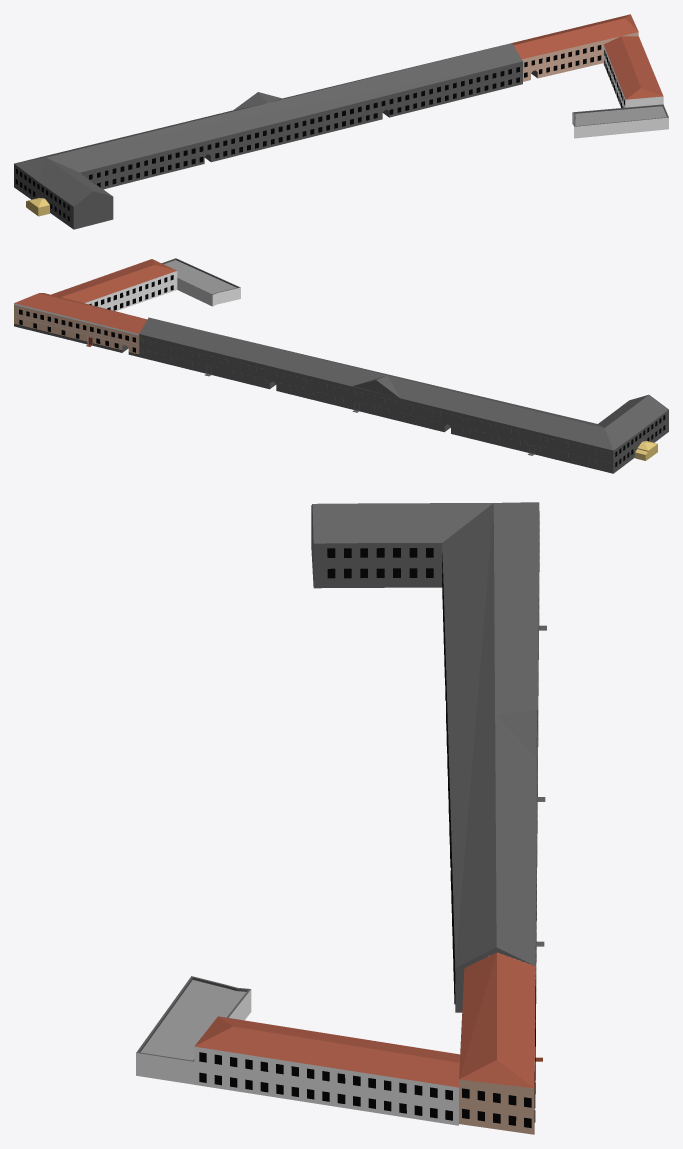
The model's file is duhkonsist.gltf.
The picture shows the model from 3 angles, top to bottom: view 1: azimuth 30°, elevation 25°; view 2: azimuth 150°, elevation 25°; view 3: azimuth 270°, elevation 25°; orthographic projection. The views are drawn at different scales.
Parts seen in each view (by area): view 1: Base, Base 2, Windows Back, Base.002, Windows Back 2, Base.001, Windows Side; view 2: Base, Windows Front, Base 2, Base.002, Windows Side 2, Windows Side, Base.001; view 3: Base, Base 2, Base.002, Windows Front 2, Windows Front 2.002, Windows Back.
Boxes of the visible parts, x1,y1,x2,y2 form: Base: [14, 14, 638, 229]; Base 2: [603, 36, 663, 107]; Windows Back: [89, 67, 519, 187]; Base.002: [572, 104, 668, 138]; Windows Back 2: [524, 45, 601, 77]; Base.001: [26, 198, 49, 216]; Windows Side: [15, 168, 69, 221]; Base: [14, 293, 668, 473]; Windows Front: [19, 309, 610, 467]; Base 2: [51, 259, 177, 311]; Base.002: [162, 258, 240, 306]; Windows Side 2: [89, 275, 173, 310]; Windows Side: [615, 415, 665, 466]; Base.001: [635, 441, 657, 460]; Base: [311, 502, 539, 1134]; Base 2: [194, 1016, 460, 1125]; Base.002: [136, 976, 251, 1084]; Windows Front 2: [199, 1052, 452, 1120]; Windows Front 2.002: [327, 548, 433, 578]; Windows Back: [442, 554, 455, 1004].
Size of the model in its own units: 267 by 15.16 by 77.63.
